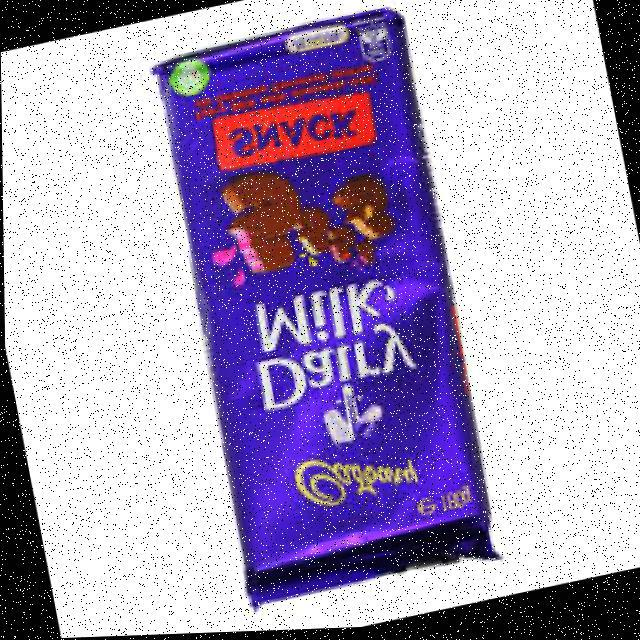cadbury_chocolate: (163, 41, 490, 586)
